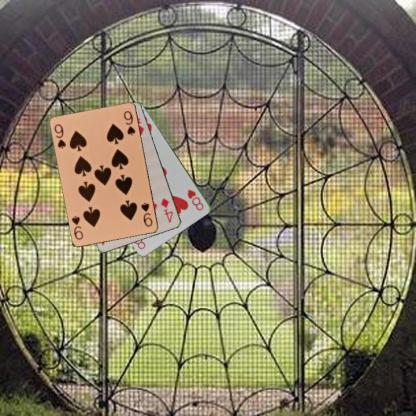4d: (158, 195, 174, 224)
8h: (185, 187, 205, 212)
9s: (138, 200, 154, 228), (52, 121, 67, 150)
